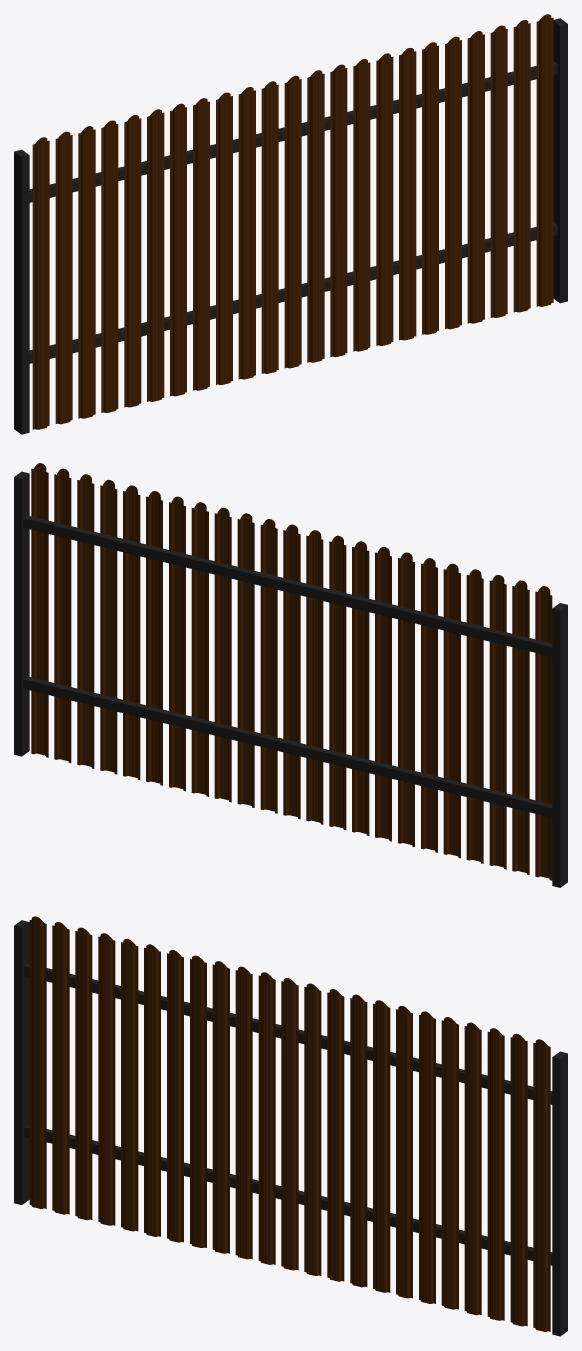
The model's file is Tvorlente.glb.
3 views of the same model, one above another, from view 1: azimuth 30°, elevation 25°; view 2: azimuth 150°, elevation 25°; view 3: azimuth 330°, elevation 25° (orthographic).
Visible parts, largest first — view 1: Tvorlentės, Skersinis; view 2: Tvorlentės, Skersinis; view 3: Tvorlentės, Skersinis.
Part boxes in pixels (left/top/right/bottom): Tvorlentės: left=32, top=14, right=553, bottom=429; Skersinis: left=14, top=18, right=567, bottom=434; Tvorlentės: left=31, top=463, right=552, bottom=880; Skersinis: left=14, top=471, right=567, bottom=887; Tvorlentės: left=29, top=916, right=550, bottom=1331; Skersinis: left=14, top=920, right=567, bottom=1336.
Bounding box in the file's own units: 206 × 105 × 5.
